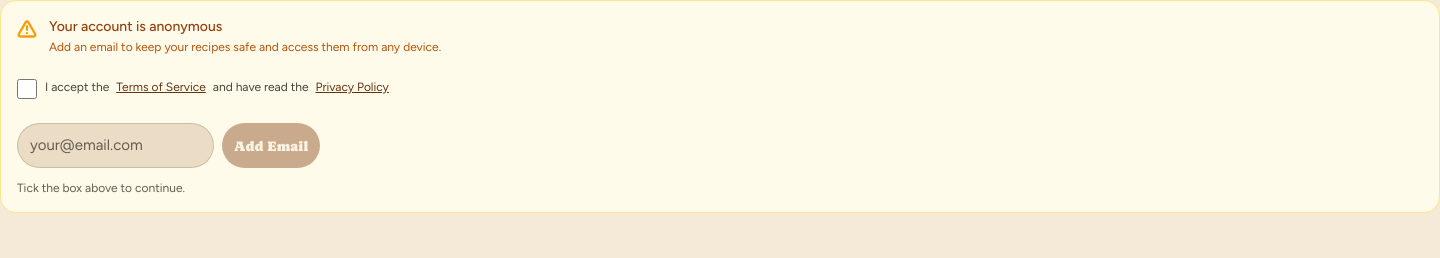
Test case: EmailLinkingForm (warning, anonymous user) › Enter while unticked shows a tick-the-box error and sends nothing
This screenshot has width=1440, height=258.
Type " A@Example.com" into the field with placeholder "your@email.com" at (116, 146), box [17,123,214,168]
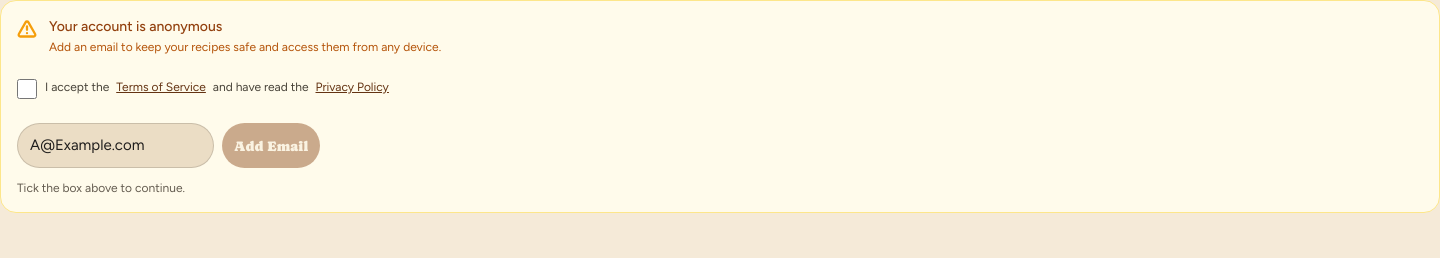
Press Enter in the field with placeholder "your@email.com", box [17,123,214,168]
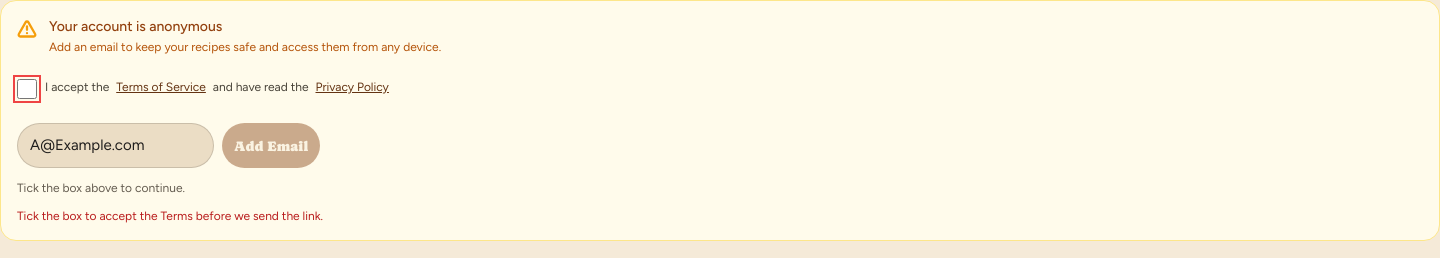
Result: the message shows "Tick the box" at [17,209,323,223]
